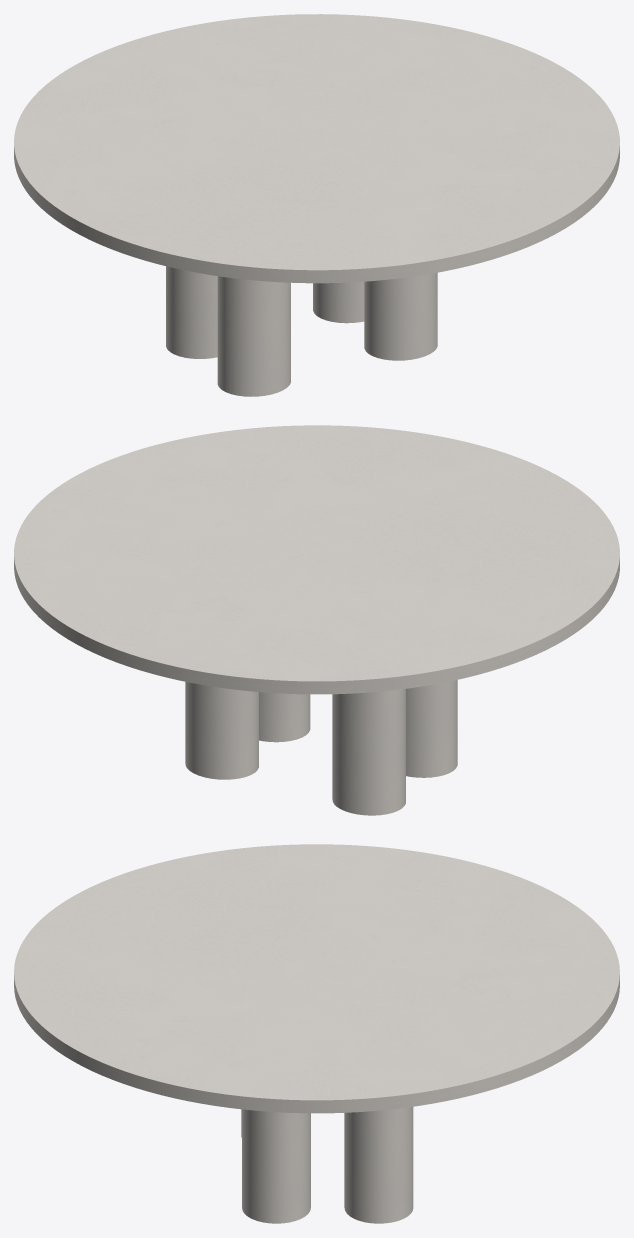
File: pearlwhite_round_standard_grove.glb
The picture shows the model from 3 angles, top to bottom: view 1: azimuth 30°, elevation 25°; view 2: azimuth 150°, elevation 25°; view 3: azimuth 270°, elevation 25°; orthographic projection.
Parts seen in each view (by area): view 1: standard_round, grove; view 2: standard_round, grove; view 3: standard_round, grove.
Boxes of the visible parts, <box> form: standard_round: <box>14,14,619,283</box>; grove: <box>166,266,437,396</box>; standard_round: <box>14,425,619,694</box>; grove: <box>185,680,457,815</box>; standard_round: <box>14,844,619,1113</box>; grove: <box>241,1107,413,1223</box>.
Size of the model in its own units: 6.75 by 2.51 by 6.75.
Materials: 1 (1 with a texture image).
